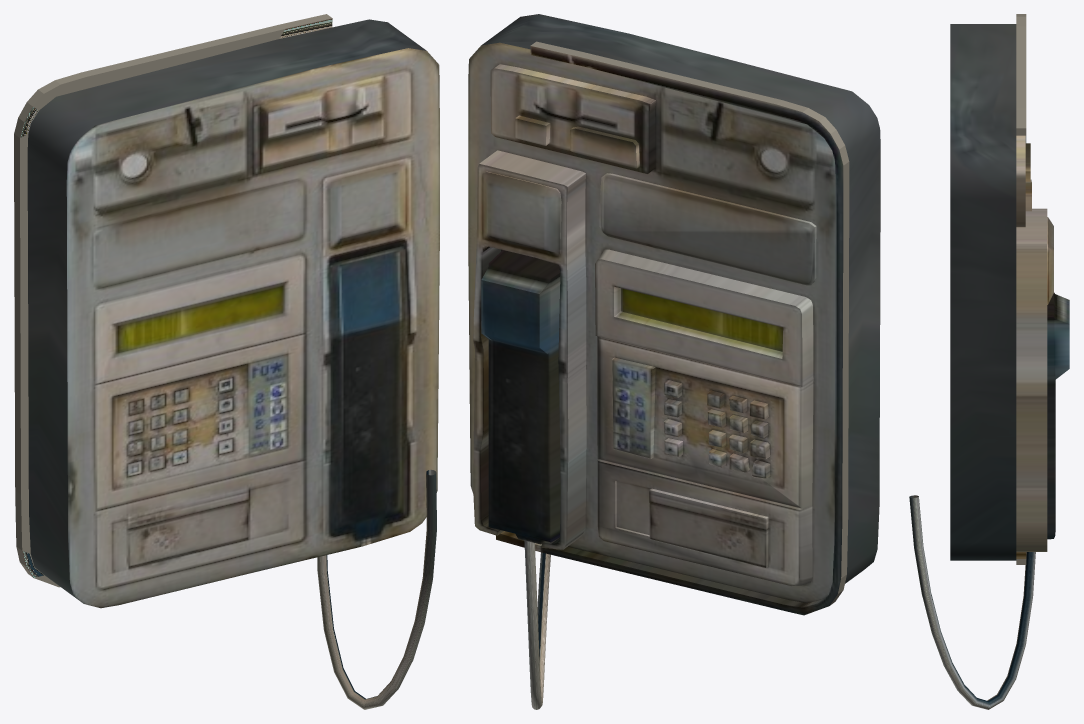
The model's file is TELEFONO_PUBLICO.fbx.
The picture shows the model from 3 angles, left to right: view 1: azimuth 30°, elevation 25°; view 2: azimuth 150°, elevation 25°; view 3: azimuth 270°, elevation 25°; orthographic projection. The views are drawn at different scales.
Parts seen in each view (by area): view 1: telefono publico; view 2: telefono publico; view 3: telefono publico.
Boxes of the visible parts, x1=… form: telefono publico: x1=14, y1=14, x2=439, y2=709; telefono publico: x1=468, y1=14, x2=880, y2=709; telefono publico: x1=909, y1=14, x2=1069, y2=709.
Bounding box in the file's own units: 116 × 199 × 50.13.
